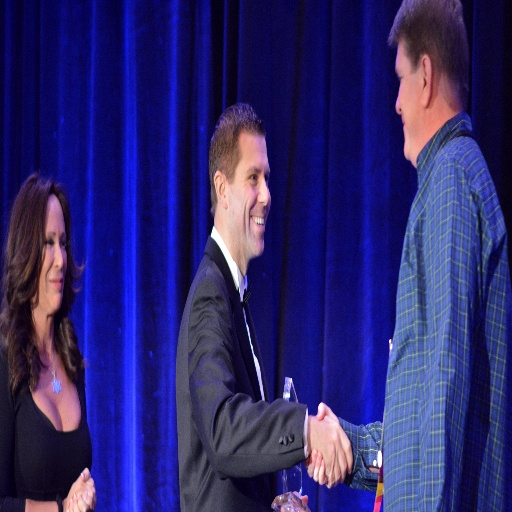hand: (311, 415, 354, 490), (61, 472, 97, 511), (67, 467, 97, 511)
